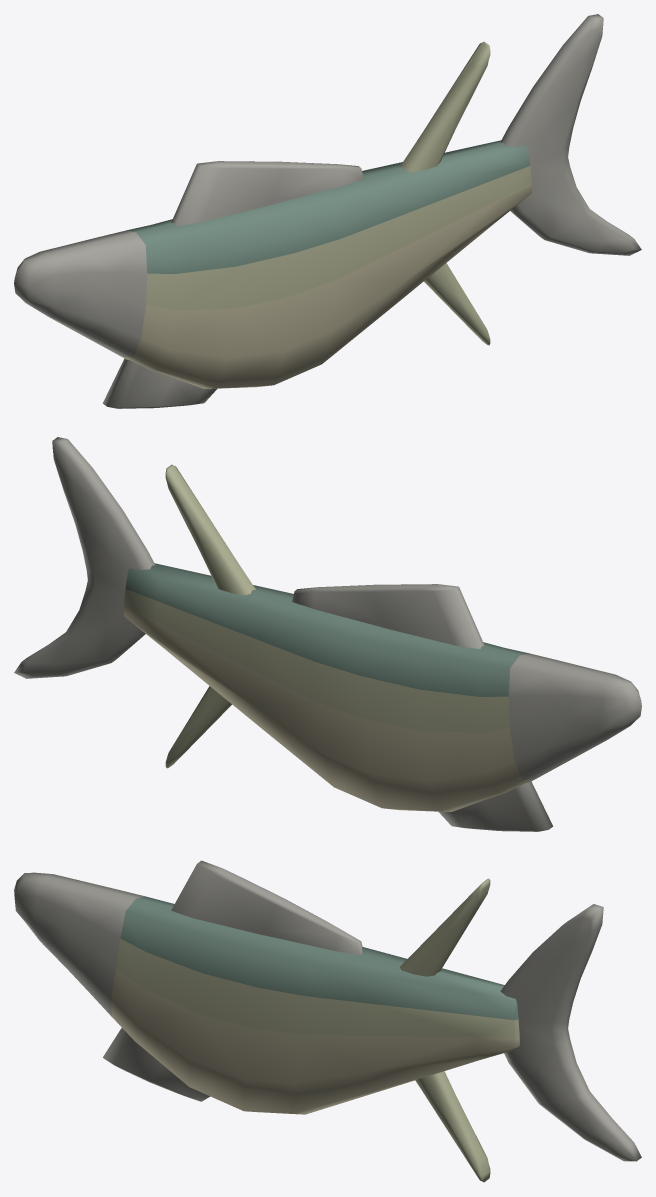
File: quaternius-pirate-prop-fish-tuna.glb
3 renders of one model, top to bottom at view 1: azimuth 30°, elevation 25°; view 2: azimuth 150°, elevation 25°; view 3: azimuth 330°, elevation 25°, orthographic.
Visible parts, largest first — view 1: Prop_Fish_Tuna; view 2: Prop_Fish_Tuna; view 3: Prop_Fish_Tuna.
Boxes of the visible parts, x1=… form: Prop_Fish_Tuna: x1=14, y1=14, x2=641, y2=408; Prop_Fish_Tuna: x1=14, y1=437, x2=641, y2=831; Prop_Fish_Tuna: x1=14, y1=860, x2=641, y2=1182.
Bounding box in the file's own units: 2.13 × 0.9759 × 0.2368.
Materials: 1 (1 with a texture image).
